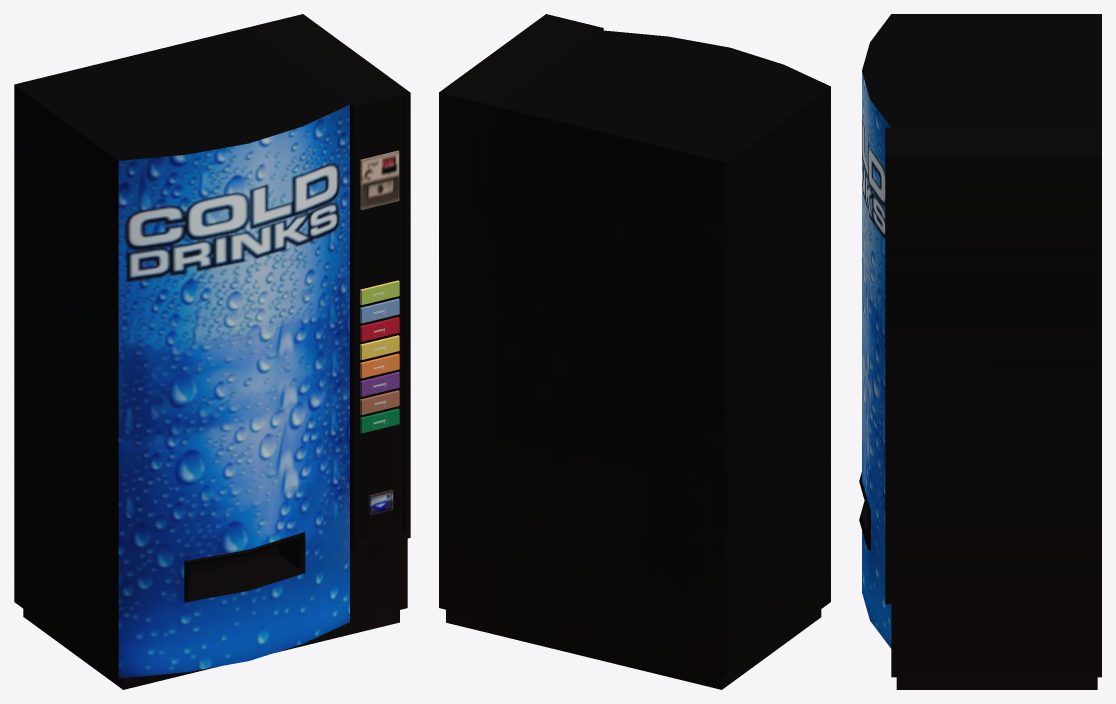
File: VendingMachine.FBX
3 views of the same model, side by side, from view 1: azimuth 30°, elevation 25°; view 2: azimuth 150°, elevation 25°; view 3: azimuth 270°, elevation 25° (orthographic).
Visible parts, largest first — view 1: VendingMachine; view 2: VendingMachine; view 3: VendingMachine.
Boxes of the visible parts, box(x1,y1,x2,y2) form: VendingMachine: box(14, 14, 410, 689); VendingMachine: box(439, 14, 830, 689); VendingMachine: box(859, 14, 1101, 689).
Bounding box in the file's own units: 83.77 × 148 × 60.52.
